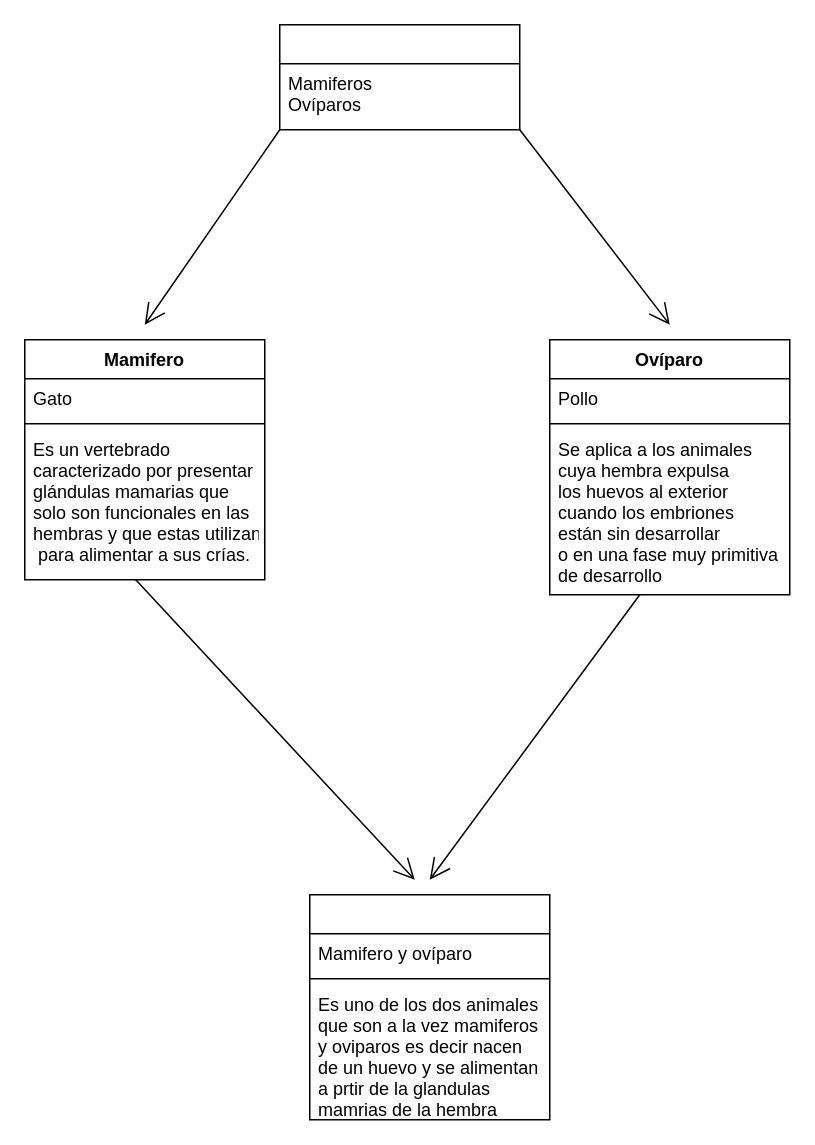
This 815x1145 diagram has some shape labels left out. The box of each missing label's shape, as (x1, y1, x2, y2) in pixels:
Animal: (278, 23, 520, 130)
Omnitorrinco: (308, 893, 550, 1120)
